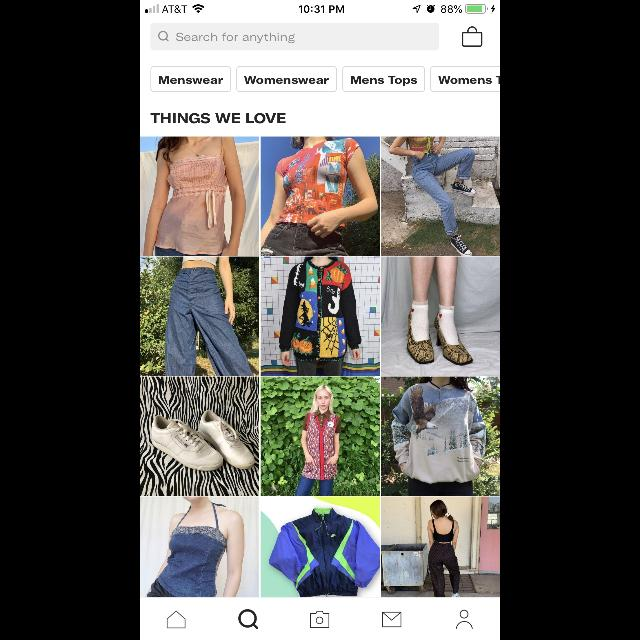icon: (462, 27, 482, 47), (239, 609, 259, 629), (310, 610, 330, 628), (382, 611, 402, 627), (167, 612, 186, 628), (456, 610, 472, 628), (159, 31, 169, 41)
image: (380, 256, 500, 376), (260, 256, 380, 376), (260, 376, 380, 496), (380, 376, 500, 496), (140, 376, 260, 496), (140, 256, 260, 376), (380, 137, 500, 256), (260, 137, 380, 256), (140, 137, 260, 256), (380, 497, 500, 597), (260, 497, 380, 597), (140, 497, 260, 597)
input: (151, 23, 439, 51)
text: (177, 32, 296, 44), (152, 114, 286, 122)
textbutton: (237, 66, 337, 92), (342, 66, 426, 92), (151, 66, 231, 92), (430, 66, 500, 92)
uppertaskbar: (140, 0, 500, 14)
